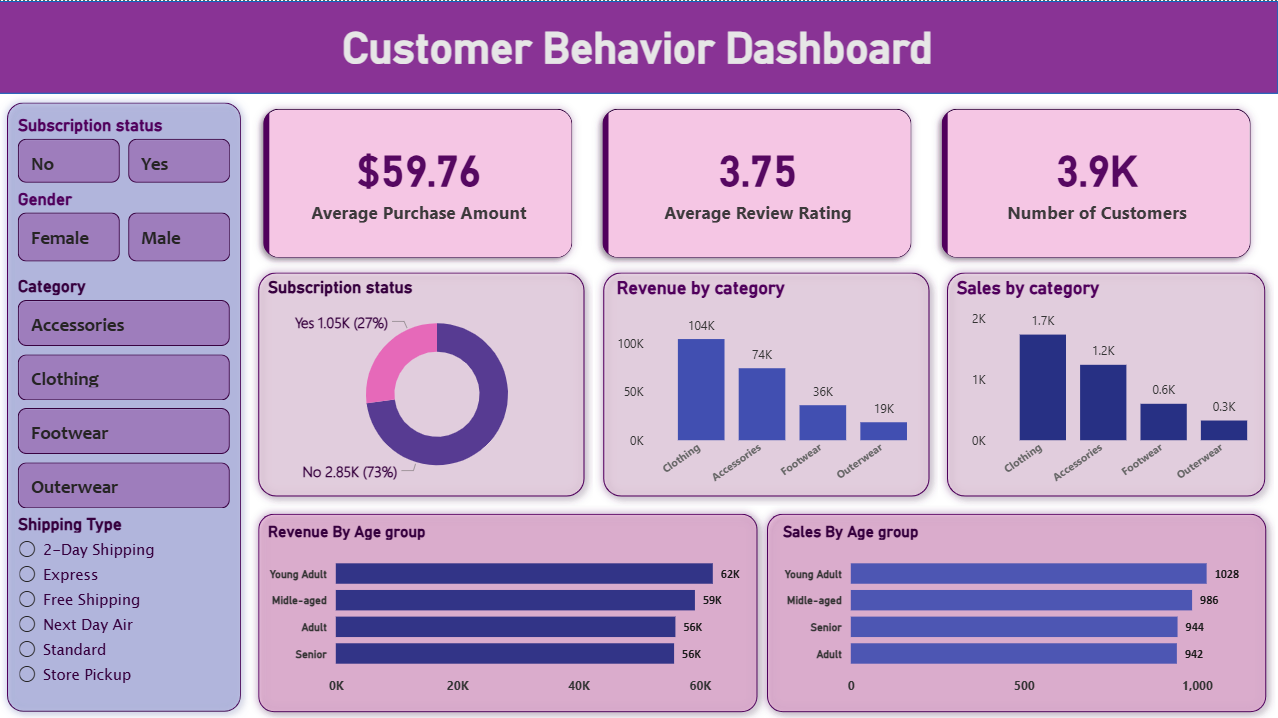

What the dashboard file says about the page in this screenshot:
{"tool":"powerbi","page":{"name":"Page 1","canvas":[1280,720],"ordinal":0},"visuals":[{"type":"cardVisual","fields":{"Data":["public customer.Average Purchase Amount","public customer.Average review_rating","public customer.Number of Customers"]},"box":[237.2,79.5,1043.1,205.4],"z":0},{"type":"shape","box":[0,0,1280.3,92.8],"z":1000},{"type":"textbox","box":[138.2,0,1001.5,79.5],"z":2000},{"type":"shape","box":[251.5,262.2,344.3,242.1],"z":3000},{"type":"donutChart","title":"Subscription status","fields":{"Category":["public customer.subscription_status"],"Y":["CountNonNull(public customer.customer_id)"]},"box":[264.9,275.7,348.3,215.2],"z":4000},{"type":"shape","box":[595.8,262.2,344.3,242.1],"z":5000},{"type":"shape","box":[940,262.2,336.2,242.1],"z":6000},{"type":"clusteredColumnChart","title":"Revenue by category","fields":{"Y":["Sum(public customer.purchase_amount)"],"Category":["public customer.category"]},"box":[613.2,275.7,326.8,215.2],"z":7000},{"type":"clusteredColumnChart","title":"Sales by category","fields":{"Category":["public customer.category"],"Y":["CountNonNull(public customer.customer_id)"]},"box":[953.5,275.7,326.8,215.2],"z":8000},{"type":"shape","box":[0,92.9,251.9,627.3],"z":9000},{"type":"advancedSlicerVisual","title":"Subscription  status","fields":{"Values":["public customer.subscription_status"]},"box":[14.7,113.7,222.6,73.4],"z":10000},{"type":"advancedSlicerVisual","title":"Category","fields":{"Values":["public customer.category"]},"box":[14.7,275.1,222.6,237.2],"z":12000},{"type":"advancedSlicerVisual","title":"Gender","fields":{"Values":["public customer.gender"]},"box":[14.7,187.1,222.6,78.3],"z":12001},{"type":"listSlicer","title":"Shipping Type","fields":{"Values":["public customer.shipping_type"]},"box":[14.7,512.4,196.9,207.9],"z":12002},{"type":"shape","box":[250.7,503.8,517.3,216.4],"z":12003},{"type":"clusteredBarChart","title":"Revenue By Age group","fields":{"Category":["public customer.age_group"],"Y":["Sum(public customer.purchase_amount)"]},"box":[265.4,520.9,494,182.2],"z":12004},{"type":"shape","box":[759.4,503.8,517.3,216.4],"z":12005},{"type":"clusteredBarChart","title":"Sales By Age group","fields":{"Category":["public customer.age_group"],"Y":["CountNonNull(public customer.purchase_amount)"]},"box":[780.2,520.9,484.2,182.2],"z":12006}]}

Visuals, with their boxes in screenshot pixels (x1, y1, x2, y2), scaled from the page's 1280x720 canvas onto the 1278x718 screenshot:
cardVisual - public customer.Average Purchase Amount x public customer.Average review_rating: (x1=237, y1=79, x2=1277, y2=284)
shape: (x1=0, y1=0, x2=1277, y2=93)
textbox: (x1=138, y1=0, x2=1138, y2=79)
shape: (x1=251, y1=261, x2=595, y2=503)
"Subscription status" donutChart: (x1=264, y1=275, x2=612, y2=490)
shape: (x1=595, y1=261, x2=939, y2=503)
shape: (x1=939, y1=261, x2=1274, y2=503)
"Revenue by category" clusteredColumnChart: (x1=612, y1=275, x2=939, y2=490)
"Sales by category" clusteredColumnChart: (x1=952, y1=275, x2=1277, y2=490)
shape: (x1=0, y1=93, x2=252, y2=717)
"Subscription  status" advancedSlicerVisual: (x1=15, y1=113, x2=237, y2=187)
"Category" advancedSlicerVisual: (x1=15, y1=274, x2=237, y2=511)
"Gender" advancedSlicerVisual: (x1=15, y1=187, x2=237, y2=265)
"Shipping Type" listSlicer: (x1=15, y1=511, x2=211, y2=717)
shape: (x1=250, y1=502, x2=767, y2=717)
"Revenue By Age group" clusteredBarChart: (x1=265, y1=519, x2=758, y2=701)
shape: (x1=758, y1=502, x2=1275, y2=717)
"Sales By Age group" clusteredBarChart: (x1=779, y1=519, x2=1262, y2=701)
